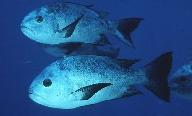Lutjanidae -Snappers-: (22, 47, 177, 108), (17, 0, 139, 50)
